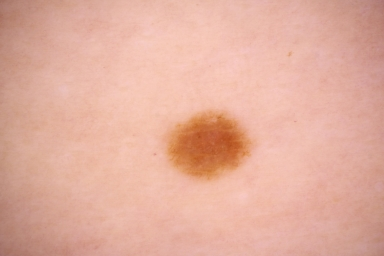nevus: (167, 115, 251, 181)
